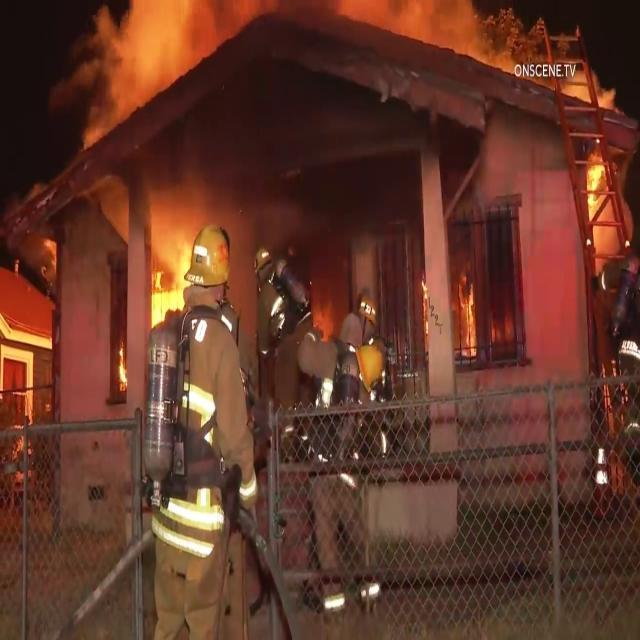Fire: (152, 241, 188, 316), (458, 274, 486, 364), (119, 341, 128, 382)
Smoke: (101, 4, 561, 158)
